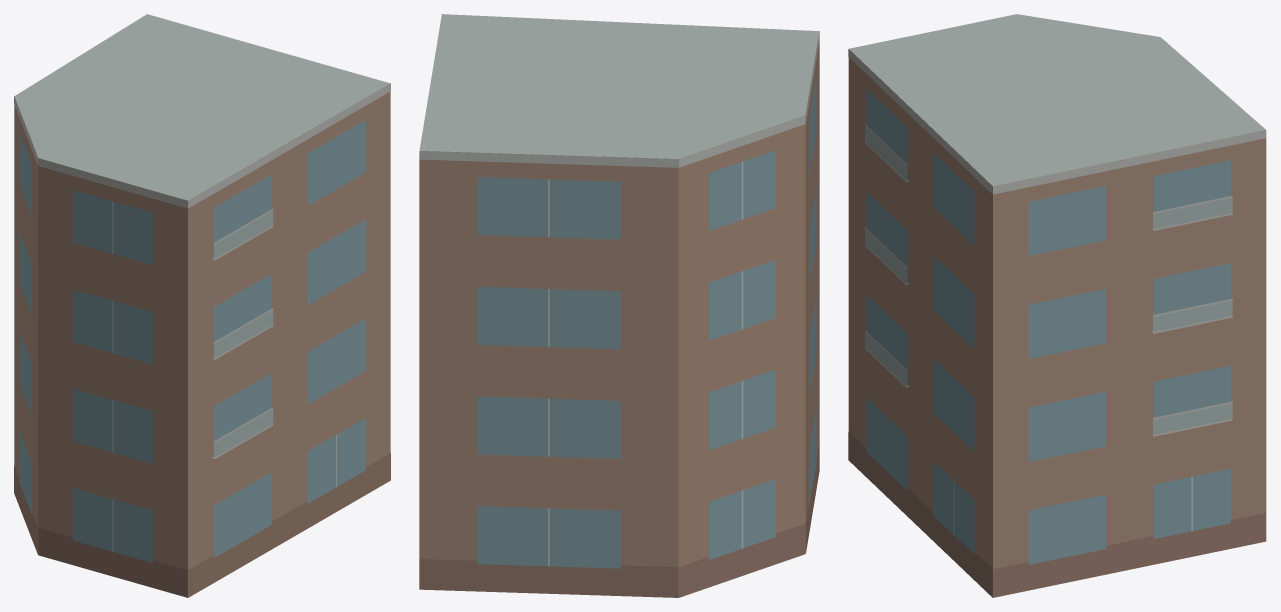
The model's file is survey-upis-32702402.glb.
The picture shows the model from 3 angles, left to right: view 1: azimuth 30°, elevation 25°; view 2: azimuth 150°, elevation 25°; view 3: azimuth 270°, elevation 25°; orthographic projection. The views are drawn at different scales.
Parts seen in each view (by area): view 1: survey-upis-32702402.tmp; view 2: survey-upis-32702402.tmp; view 3: survey-upis-32702402.tmp.
Part boxes in pixels (bbox=[...]): survey-upis-32702402.tmp: bbox=[14, 14, 390, 597]; survey-upis-32702402.tmp: bbox=[419, 14, 819, 597]; survey-upis-32702402.tmp: bbox=[848, 14, 1266, 597].
Bounding box in the file's own units: 10.97 × 12.2 × 11.23.
